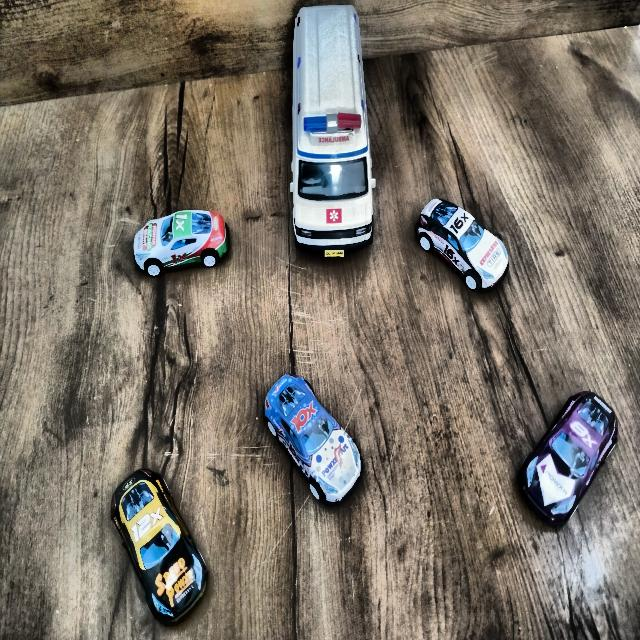Ambulance: (287, 2, 379, 264)
Car: (107, 465, 213, 631), (512, 388, 620, 531), (260, 374, 364, 508), (416, 194, 511, 294), (118, 205, 236, 278)
